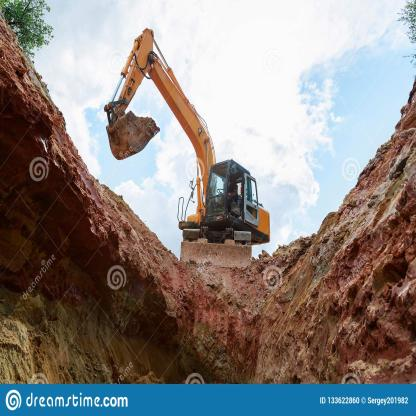excavator: (100, 19, 276, 253)
